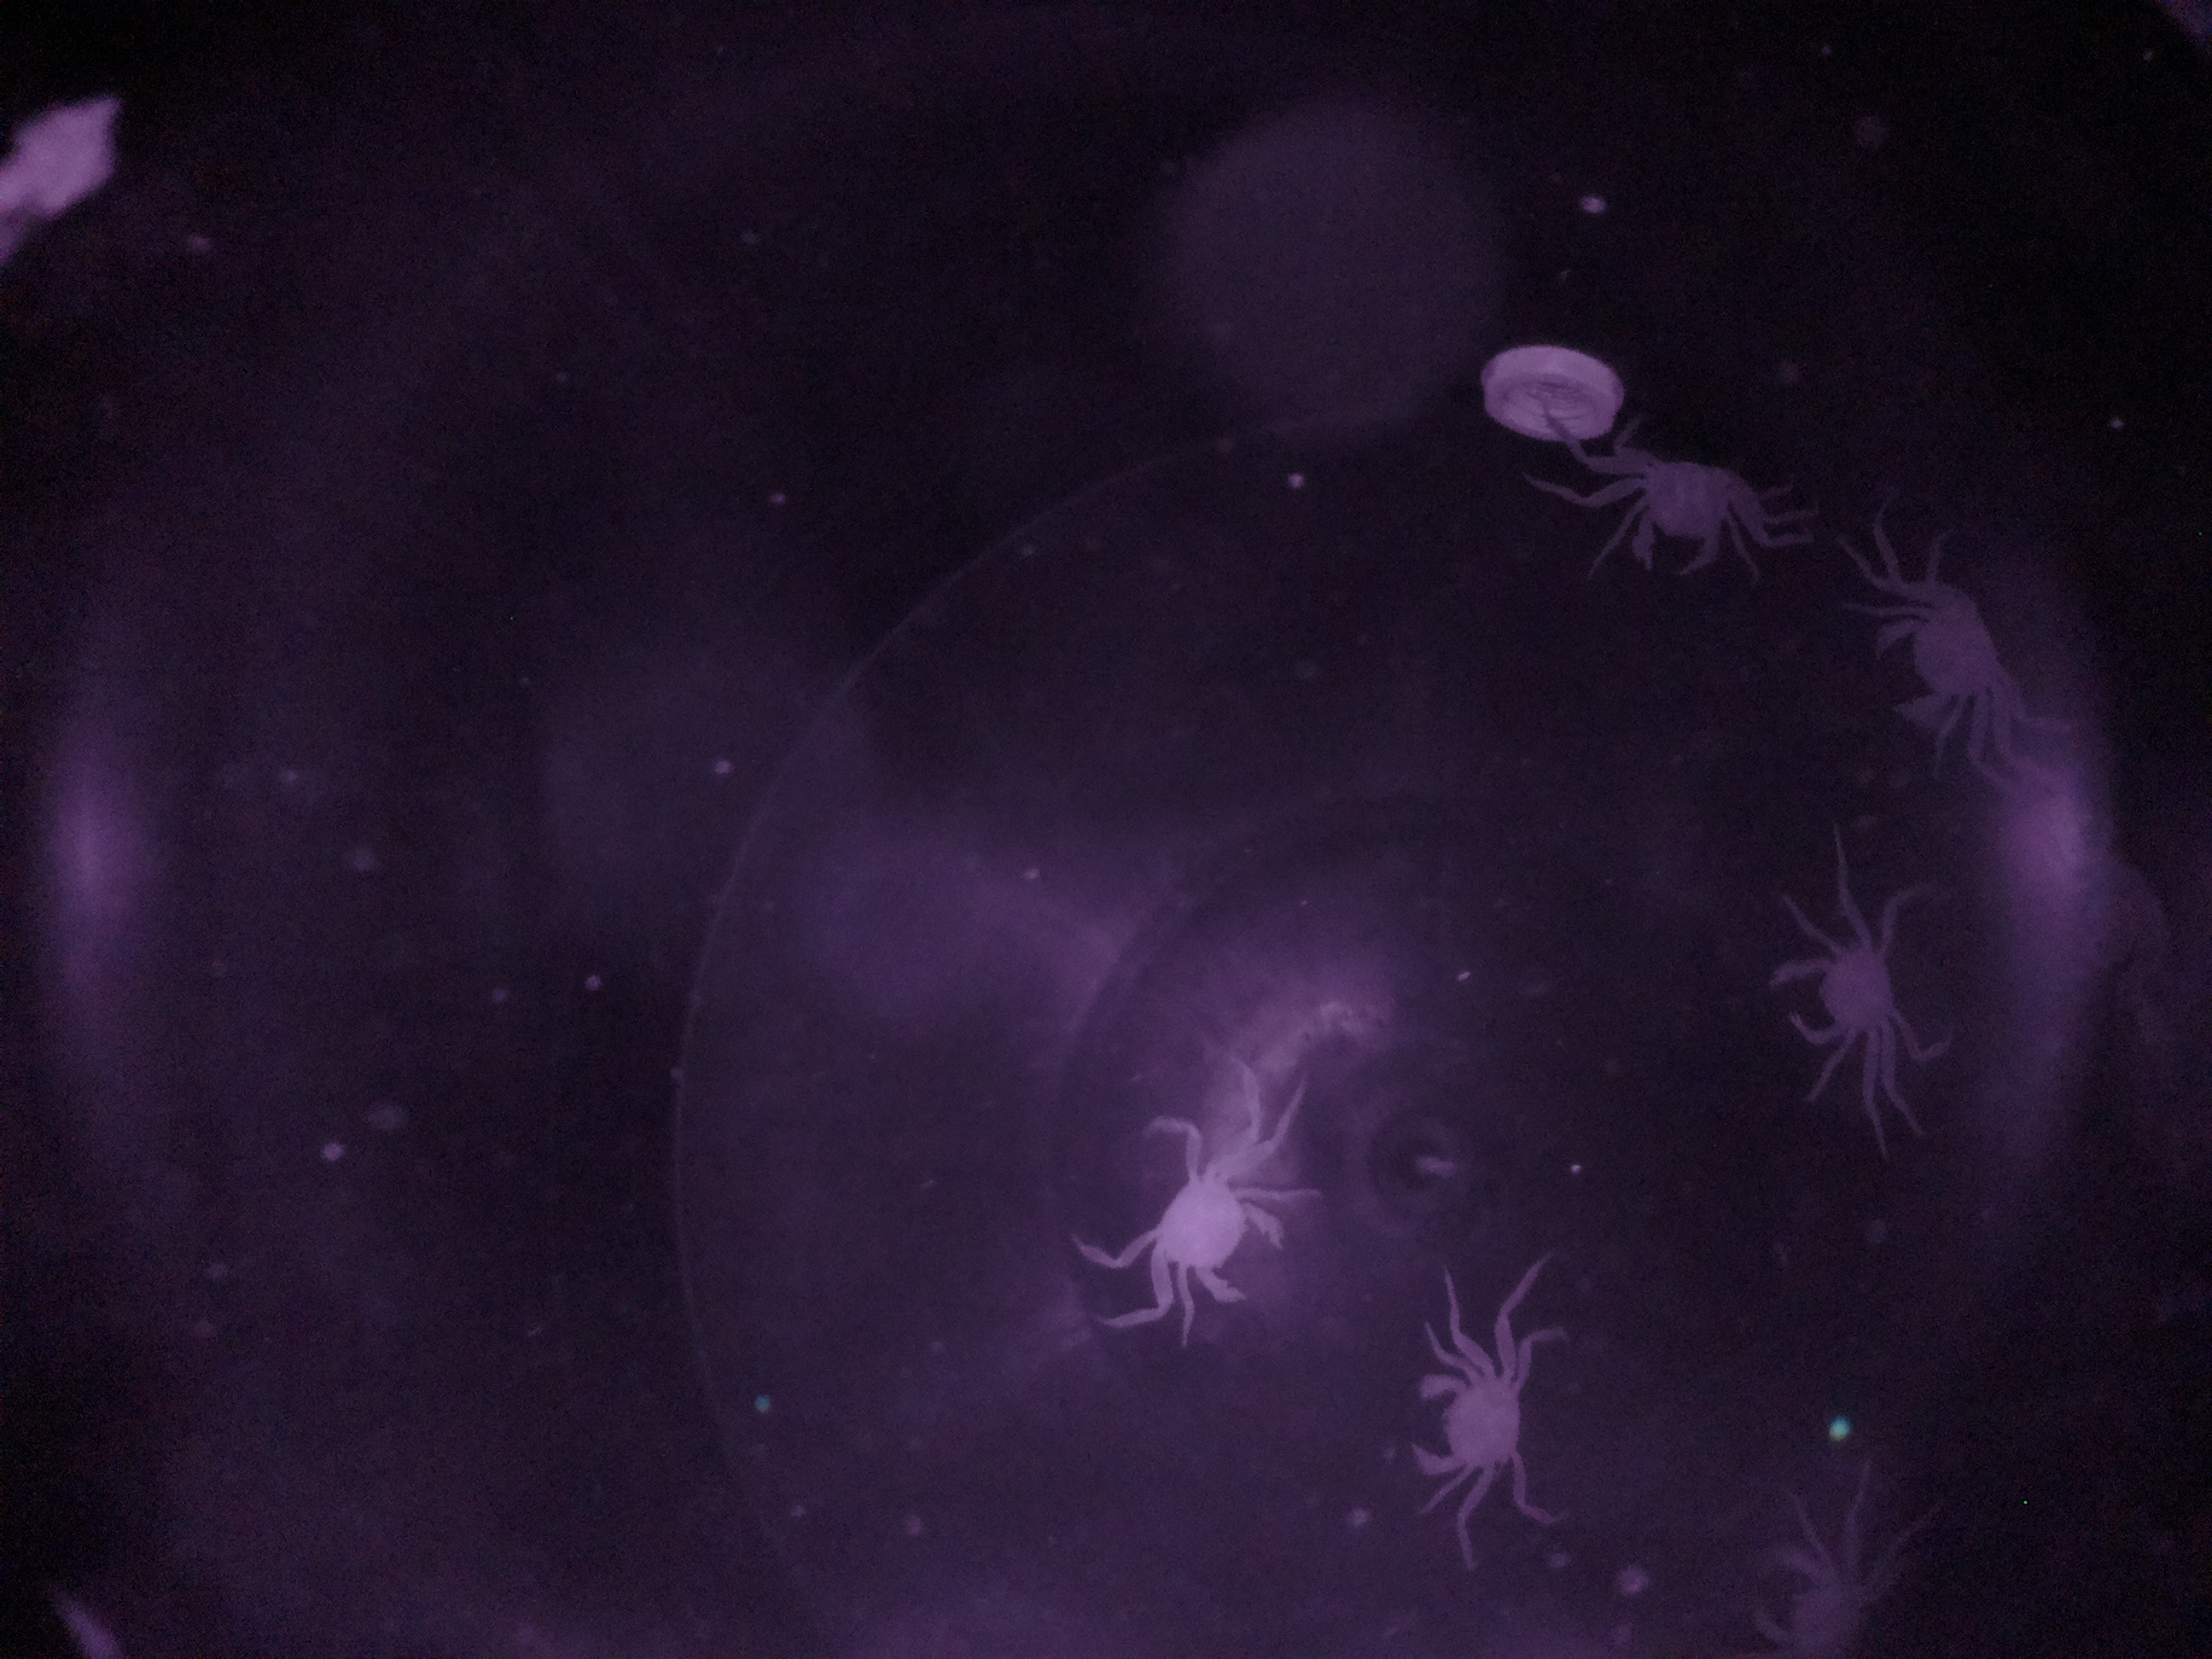Crab: (1109, 1101, 1292, 1328), (1857, 556, 2047, 763), (1757, 904, 1939, 1107), (1400, 1300, 1550, 1507), (1601, 423, 1768, 594)
